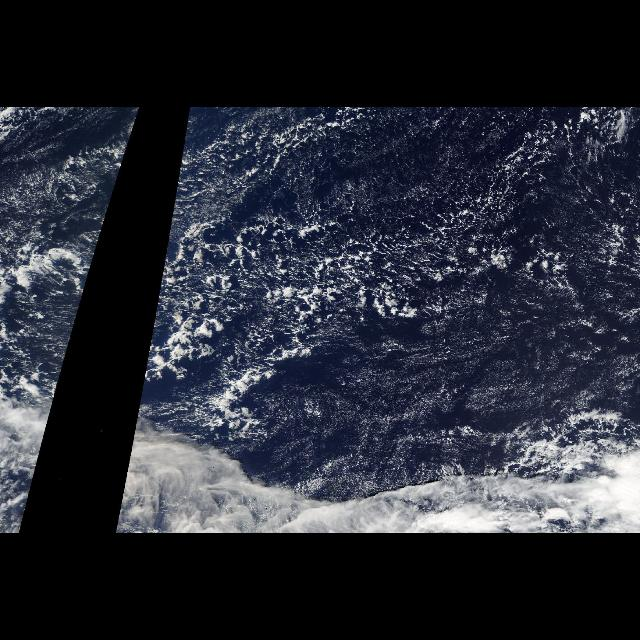Gravel: (134, 110, 626, 436), (2, 110, 140, 436)
Sugar: (276, 331, 636, 482)
